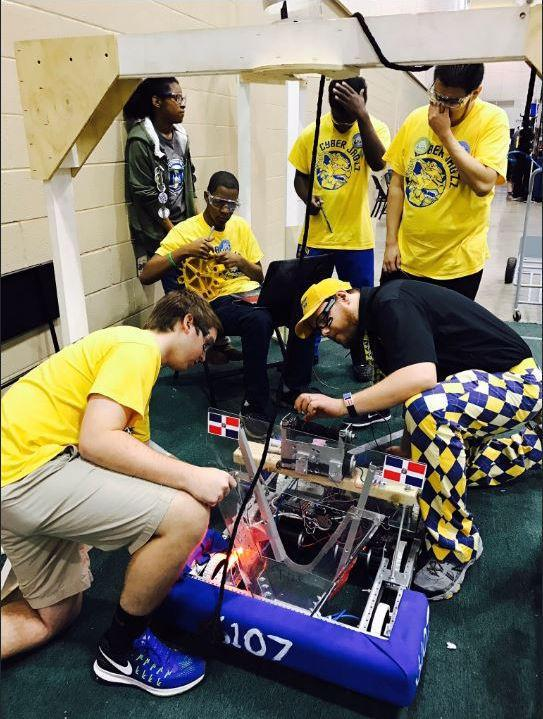robot: (133, 400, 450, 709)
